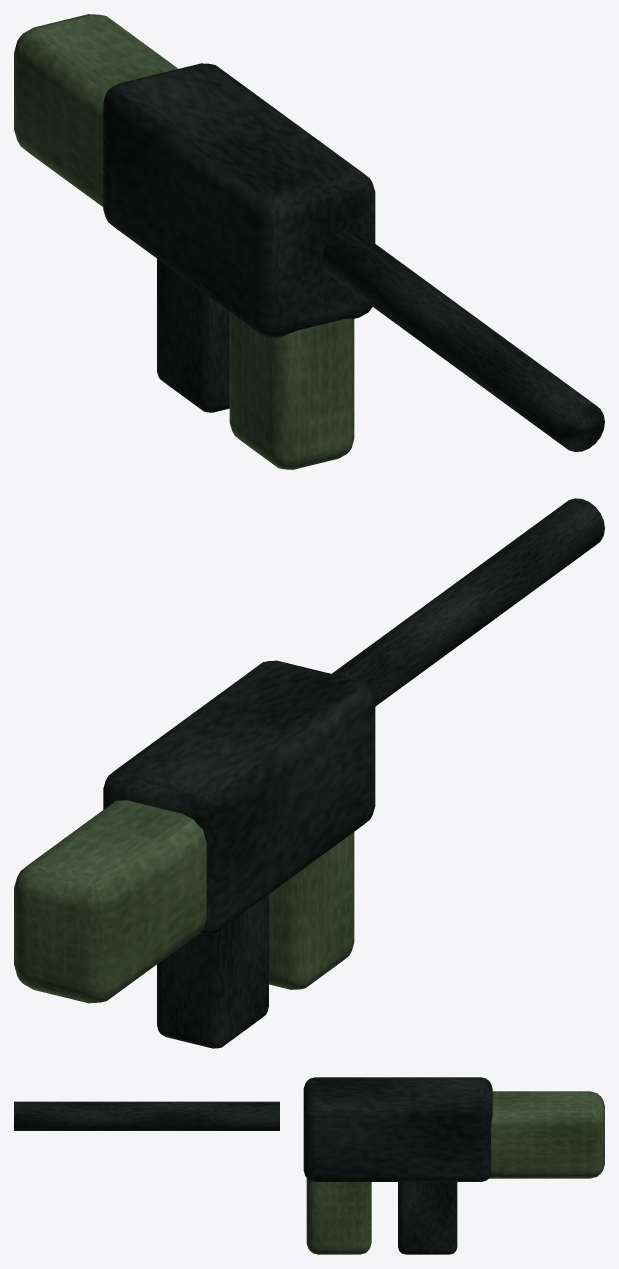
File: weapon_rifle.glb
3 views of the same model, one above another, from view 1: azimuth 30°, elevation 25°; view 2: azimuth 150°, elevation 25°; view 3: azimuth 270°, elevation 25° (orthographic). The views are drawn at different scales.
Parts seen in each view (by area): view 1: Receiver.002, Barrel.002, Magazine.002, Stock, Grip; view 2: Receiver.002, Stock, Barrel.002, Grip, Magazine.002; view 3: Receiver.002, Stock, Barrel.002, Magazine.002, Grip.
Part boxes in pixels (x1,y1,x2,y2): Receiver.002: (103, 63, 375, 337); Barrel.002: (322, 229, 604, 451); Magazine.002: (229, 312, 354, 469); Stock: (14, 14, 178, 206); Grip: (157, 259, 229, 412); Receiver.002: (103, 660, 375, 934); Stock: (14, 800, 206, 1003); Barrel.002: (332, 498, 604, 706); Grip: (157, 894, 268, 1048); Magazine.002: (269, 832, 354, 989); Receiver.002: (303, 1077, 492, 1181); Stock: (489, 1091, 604, 1178); Barrel.002: (14, 1101, 279, 1130); Magazine.002: (306, 1178, 371, 1254); Grip: (398, 1182, 457, 1254).
Bounding box in the file's own units: 0.13 × 0.295 × 1.
Materials: 2 (2 with a texture image).
